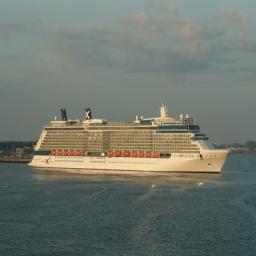cruises: (27, 105, 234, 177)
